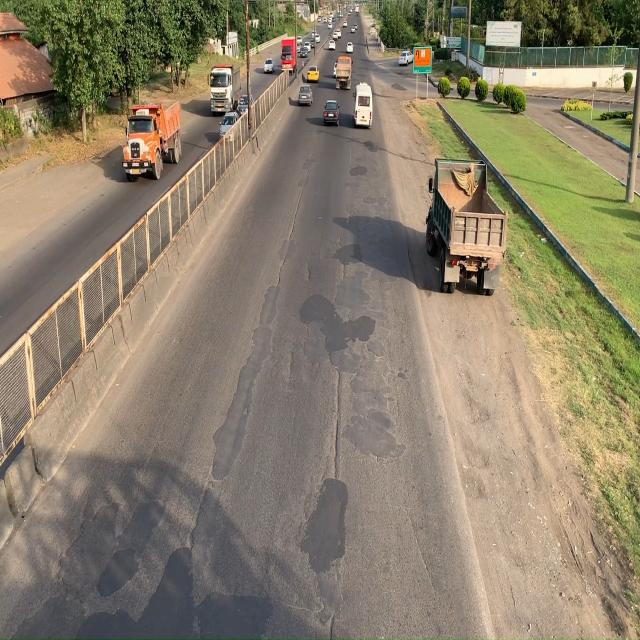Truck: (424, 156, 508, 298), (123, 99, 182, 179), (209, 62, 237, 112)
cars: (322, 97, 341, 129)
